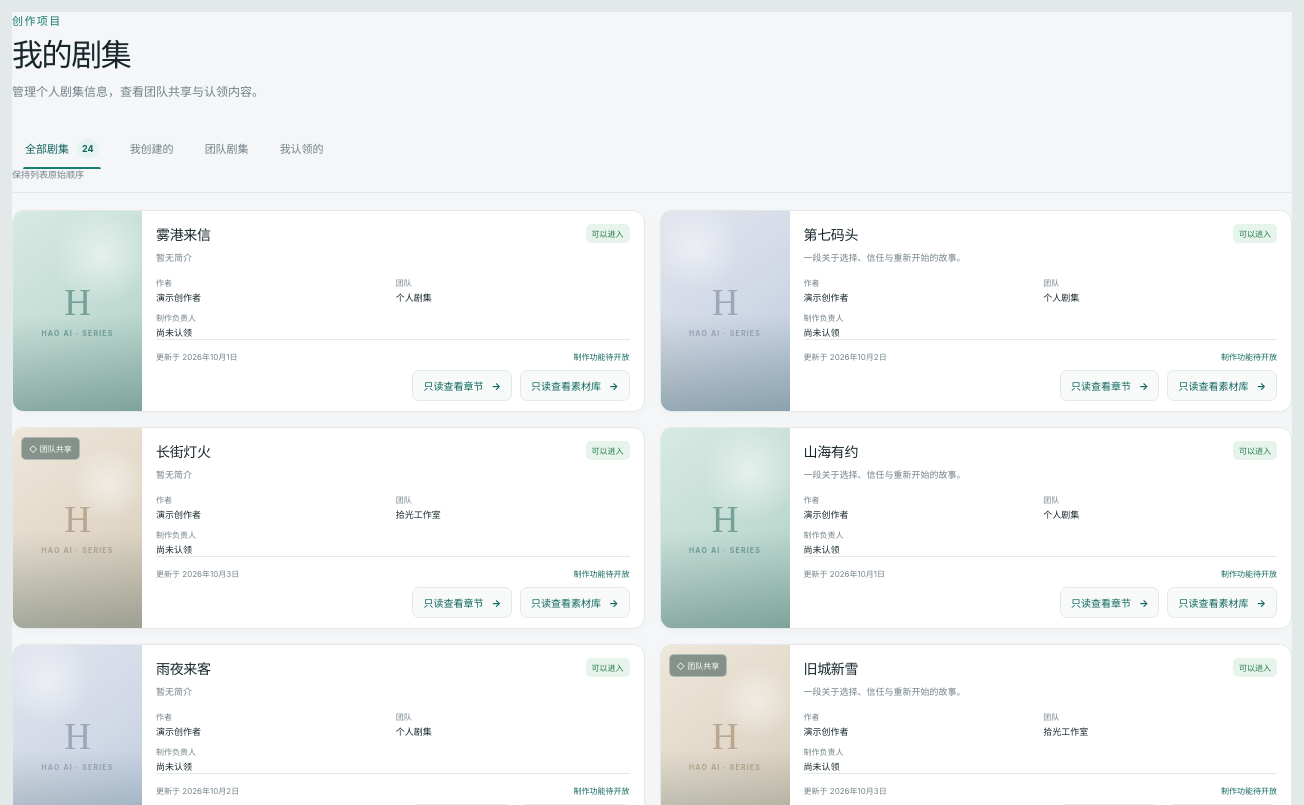
Test: SeriesPage list behavior › shows an empty directory distinctly from a team with no series
Click the button "团队剧集" at (227,148), box x1=192 y1=128 x2=262 y2=168
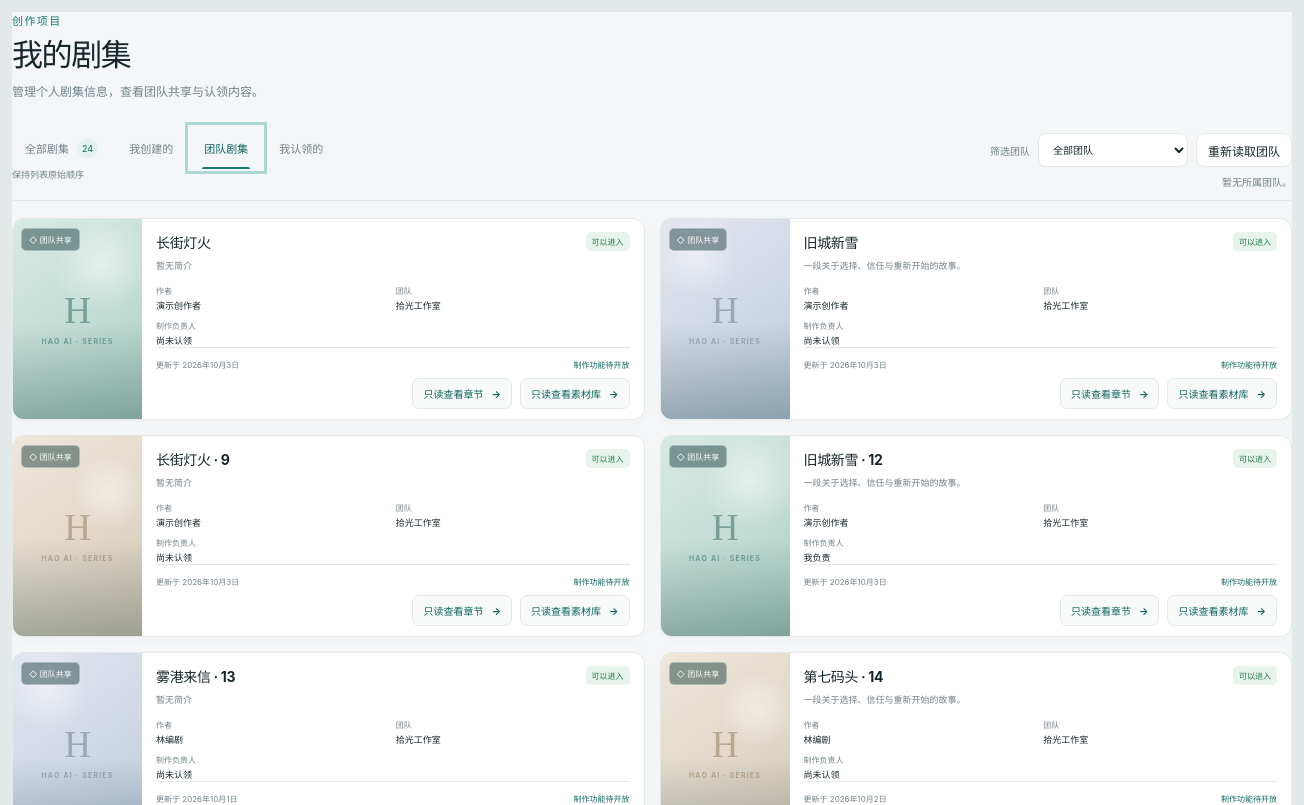
Check: the text "暂无所属团队。" is shown, box x1=1222 y1=176 x2=1292 y2=188
